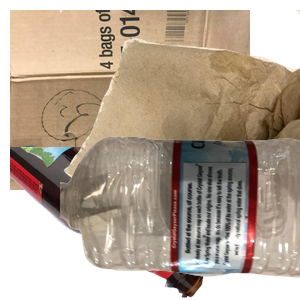cardboard: (10, 10, 250, 190)
glass: (10, 147, 207, 300)
plastic: (60, 134, 300, 300)
trash: (60, 10, 300, 190)
